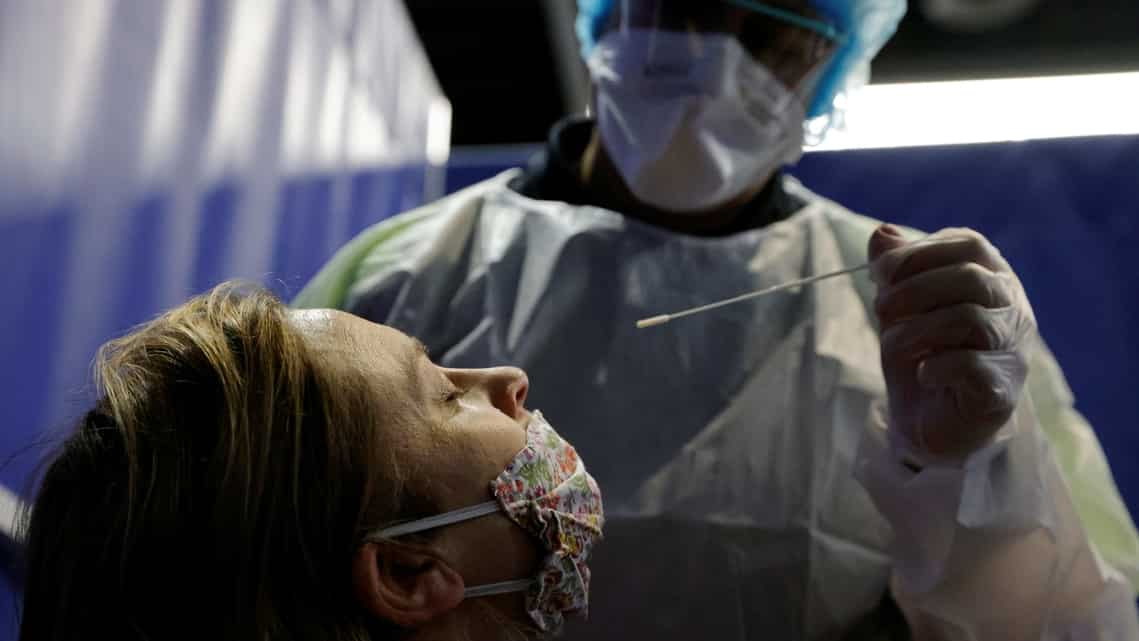Gloves: (864, 210, 1048, 463)
mask_weared_incorrect: (301, 291, 605, 635)
with_mask: (595, 1, 816, 209)
